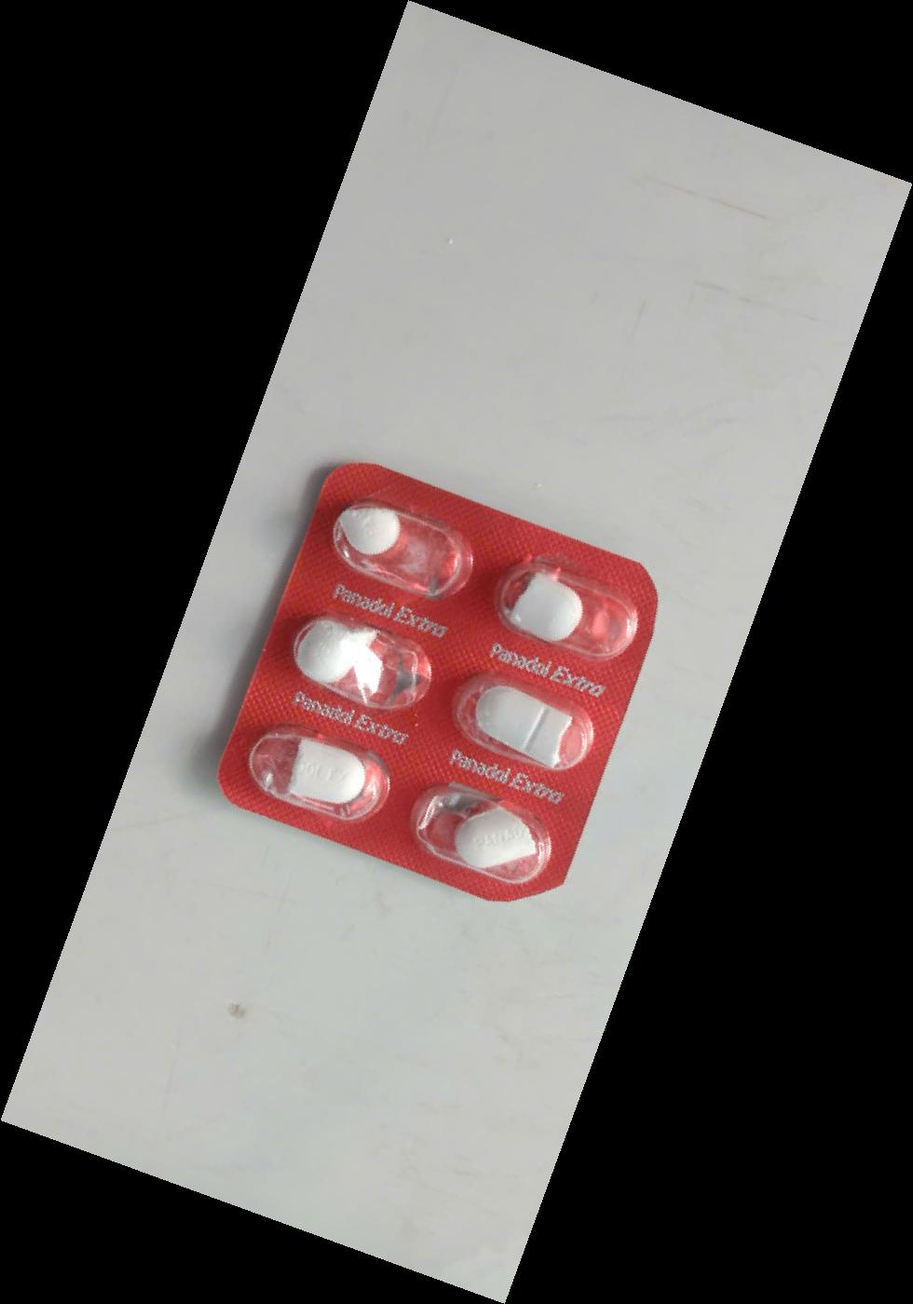Partial: (467, 529, 660, 687), (302, 468, 495, 626), (430, 648, 623, 806), (387, 759, 580, 917), (217, 703, 410, 861), (257, 579, 449, 737)
